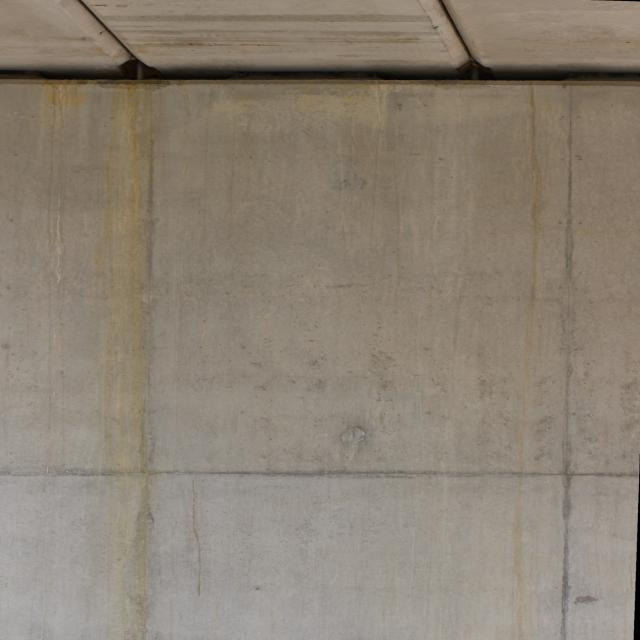corrosion: (28, 78, 160, 623), (179, 84, 491, 293), (508, 81, 555, 640), (127, 33, 435, 52)
